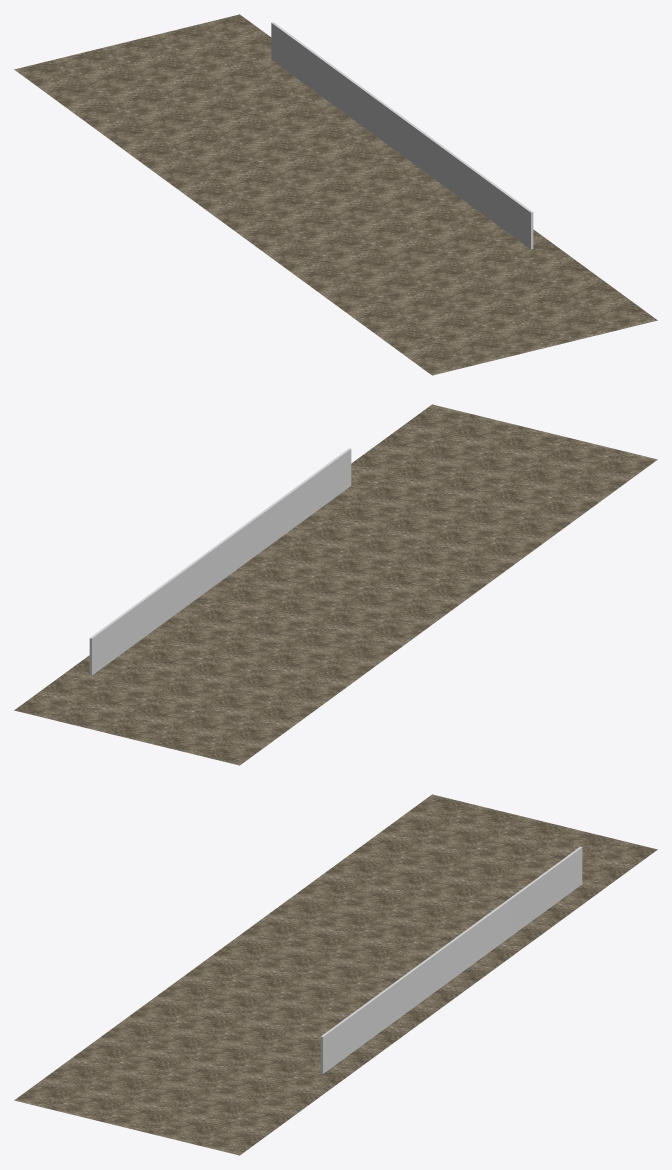
File: Street Fighter1_Arena.dae
3 renders of one model, top to bottom at view 1: azimuth 30°, elevation 25°; view 2: azimuth 150°, elevation 25°; view 3: azimuth 330°, elevation 25°, orthographic.
Visible parts, largest first — view 1: Cube, Plane.001, Plane.002, Plane, Plane.003; view 2: Cube, Plane.001, Plane.002, Plane, Plane.003; view 3: Cube, Plane.001, Plane.002, Plane, Plane.003.
Boxes of the visible parts, bbox=[...] form: Cube: bbox=[14, 14, 657, 375]; Plane.001: bbox=[415, 127, 503, 228]; Plane.002: bbox=[271, 22, 345, 111]; Plane: bbox=[343, 75, 416, 164]; Plane.003: bbox=[502, 191, 533, 249]; Cube: bbox=[14, 404, 657, 765]; Plane.001: bbox=[233, 469, 322, 570]; Plane.002: bbox=[89, 585, 163, 675]; Plane: bbox=[162, 533, 235, 622]; Plane.003: bbox=[320, 448, 351, 506]; Cube: bbox=[14, 794, 657, 1155]; Plane.001: bbox=[349, 951, 439, 1052]; Plane.002: bbox=[508, 846, 582, 936]; Plane: bbox=[437, 899, 510, 988]; Plane.003: bbox=[320, 1015, 351, 1073].
Size of the model in its own units: 1261 by 199 by 4044.
